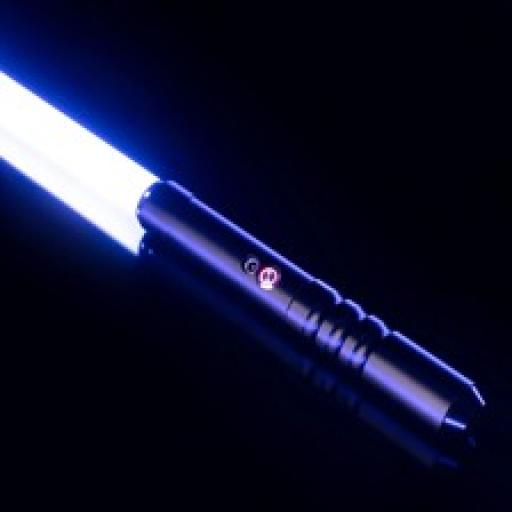lightsaber: (0, 58, 494, 444)
